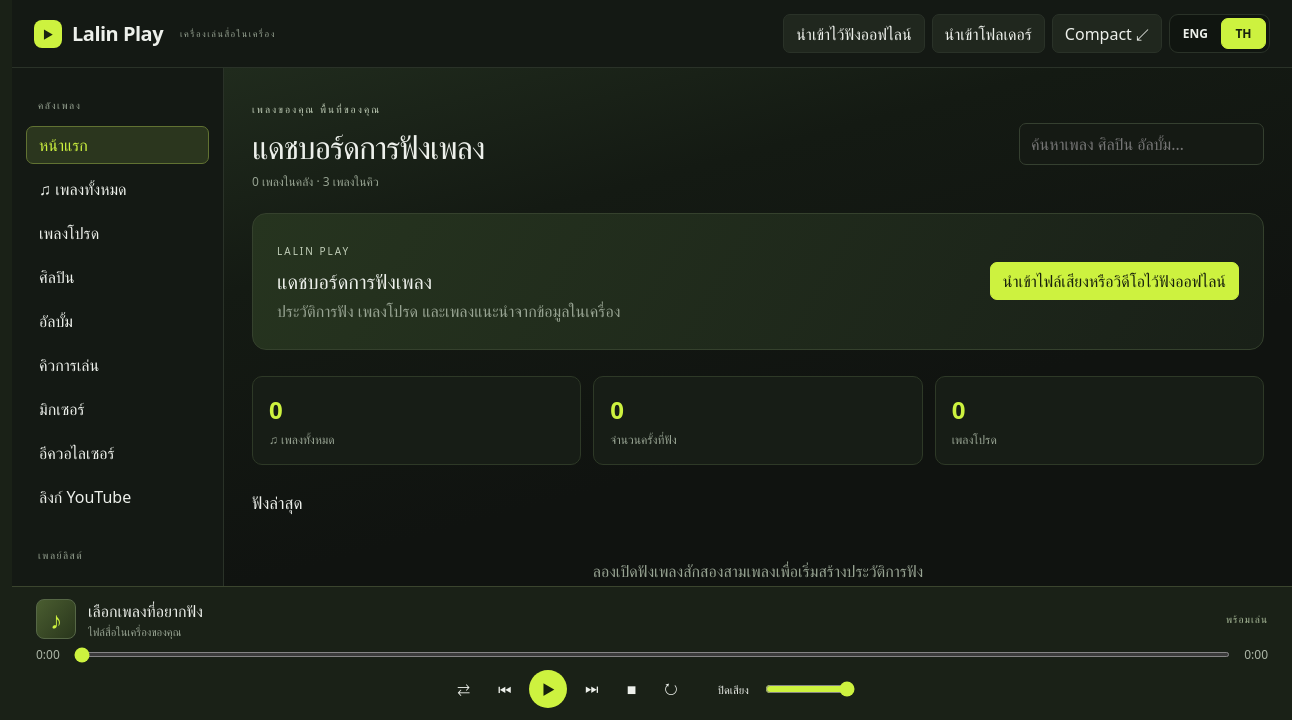
it: standalone surfaces (mocked IPC; native evidence is separate) › relinks a missing row after confirmation and preserves queue identities and playlists
The image size is (1292, 720).
Click the button "♫ เพลงทั้งหมด" at (118, 189), box [26,170,209,208]
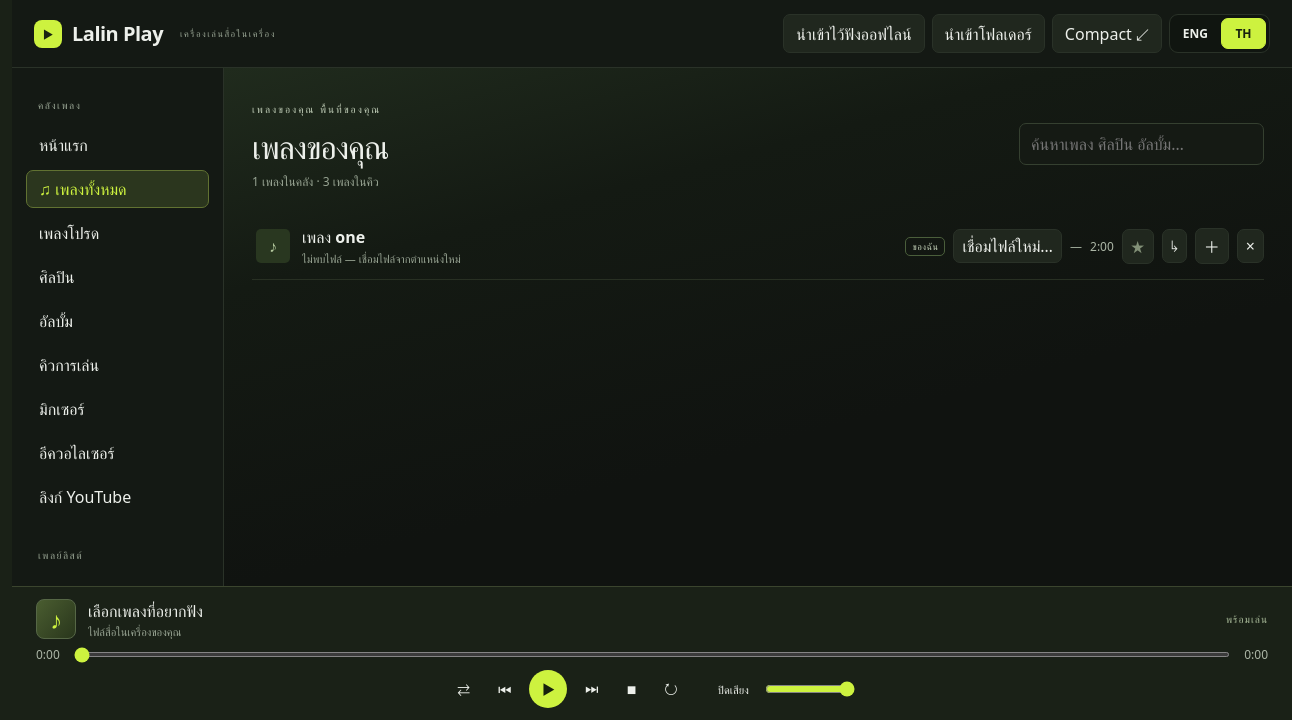
Click the button "เชื่อมไฟล์ใหม่…" at (1008, 246), box [954,229,1062,263]
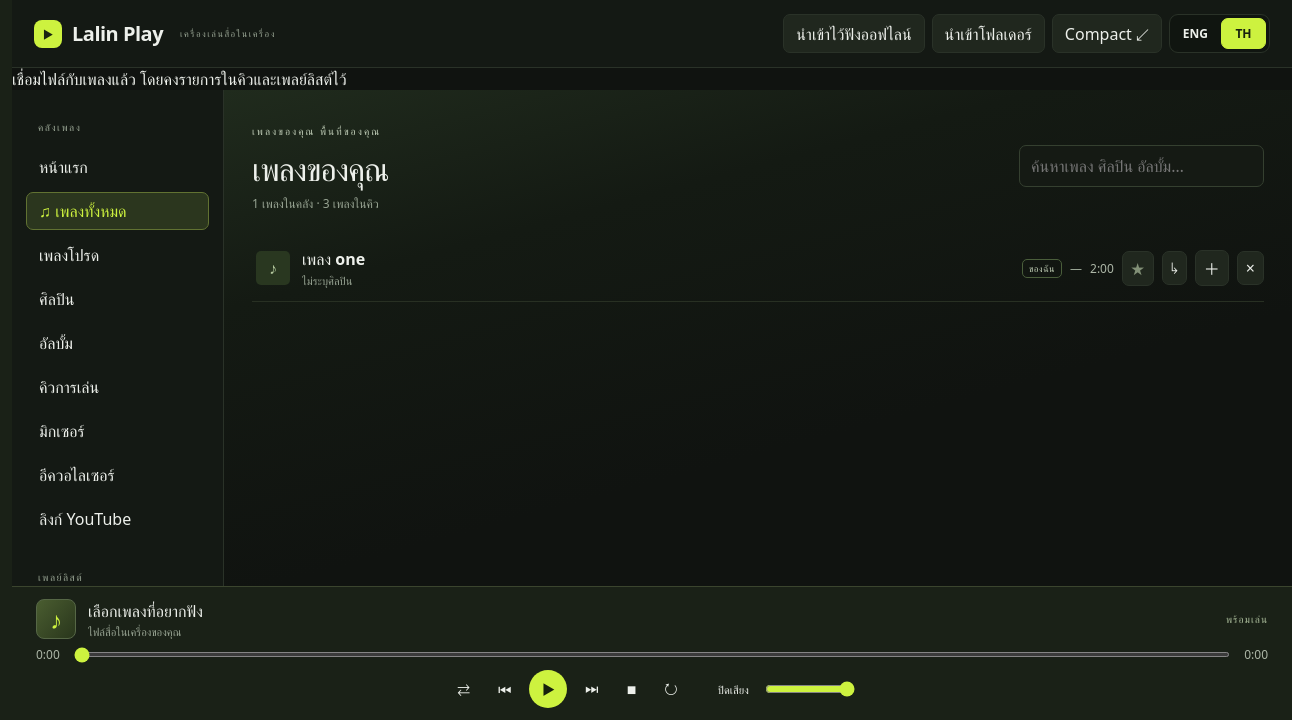
Expected: the button "เชื่อมไฟล์ใหม่…" is gone
